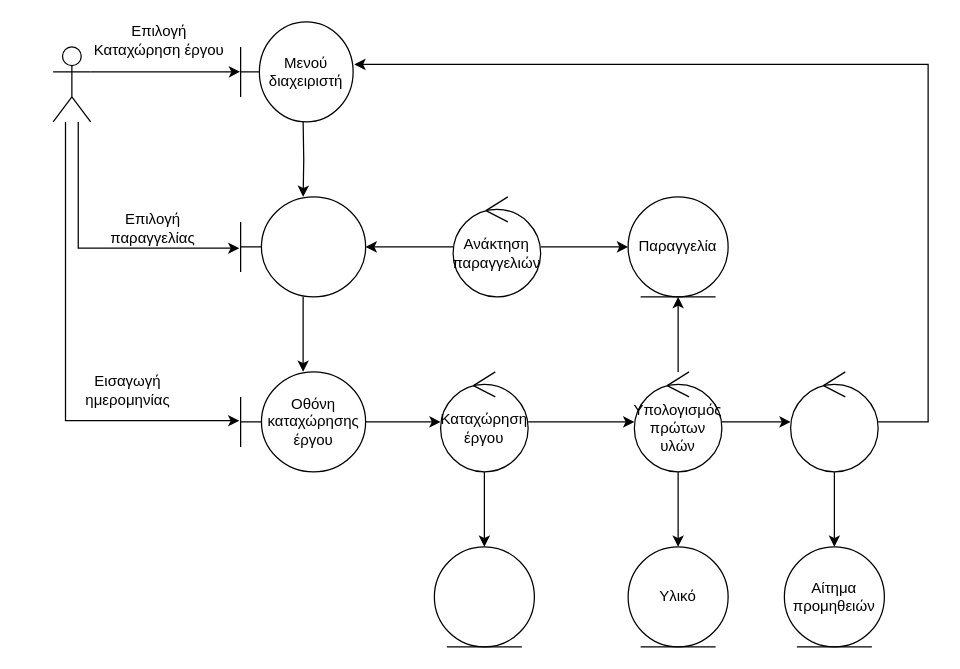
Some shapes in this 960 by 669 pixel diagram are drawn without their labels. Each missing label, with the centre of its shape:
Έργο: point (483, 596)
ΔΙΑΧΕΙΡΙΣΤΗΣ: point (71, 84)
Καταχώρηση αιτήματος προμηθειών: point (833, 421)
Λίστα παραγγελιών: point (302, 246)
